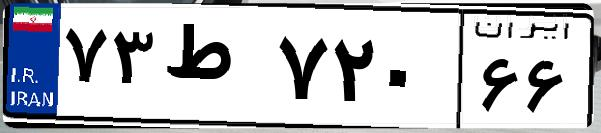0: (385, 28, 445, 110)
2: (330, 28, 385, 110)
3: (110, 28, 158, 98)
6: (475, 38, 525, 113), (525, 38, 570, 115)
7: (270, 28, 330, 110), (57, 26, 110, 100)
ط: (158, 20, 270, 120)
